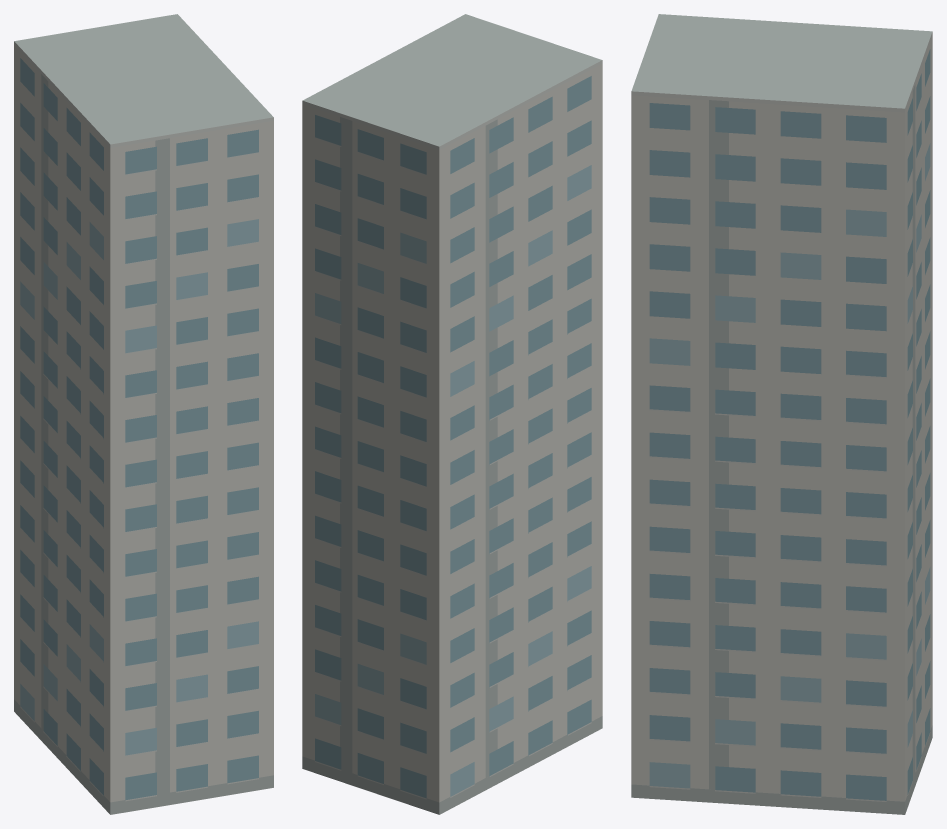
The model's file is residential-83f6d9d1-2e10-4ed2-b7a5-8c7fedc6f6cb.glb.
The picture shows the model from 3 angles, left to right: view 1: azimuth 30°, elevation 25°; view 2: azimuth 150°, elevation 25°; view 3: azimuth 270°, elevation 25°; orthographic projection. The views are drawn at different scales.
Visible parts, largest first — view 1: residential-83f6d9d1-2e10-4ed2-b7a5-8c7fedc6f6cb.tmp; view 2: residential-83f6d9d1-2e10-4ed2-b7a5-8c7fedc6f6cb.tmp; view 3: residential-83f6d9d1-2e10-4ed2-b7a5-8c7fedc6f6cb.tmp.
Boxes of the visible parts, bbox=[...] form: residential-83f6d9d1-2e10-4ed2-b7a5-8c7fedc6f6cb.tmp: bbox=[14, 14, 273, 814]; residential-83f6d9d1-2e10-4ed2-b7a5-8c7fedc6f6cb.tmp: bbox=[302, 14, 602, 814]; residential-83f6d9d1-2e10-4ed2-b7a5-8c7fedc6f6cb.tmp: bbox=[631, 14, 932, 814].
Bounding box in the file's own units: 13.23 × 46 × 17.79.
